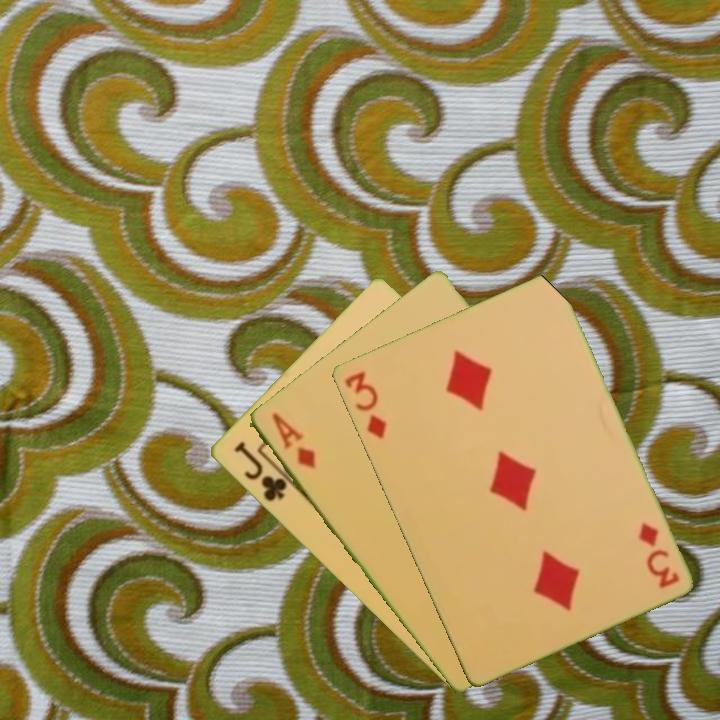3d: (340, 367, 389, 442), (634, 519, 682, 591)
Ad: (267, 408, 318, 472)
Jc: (229, 437, 290, 505)
